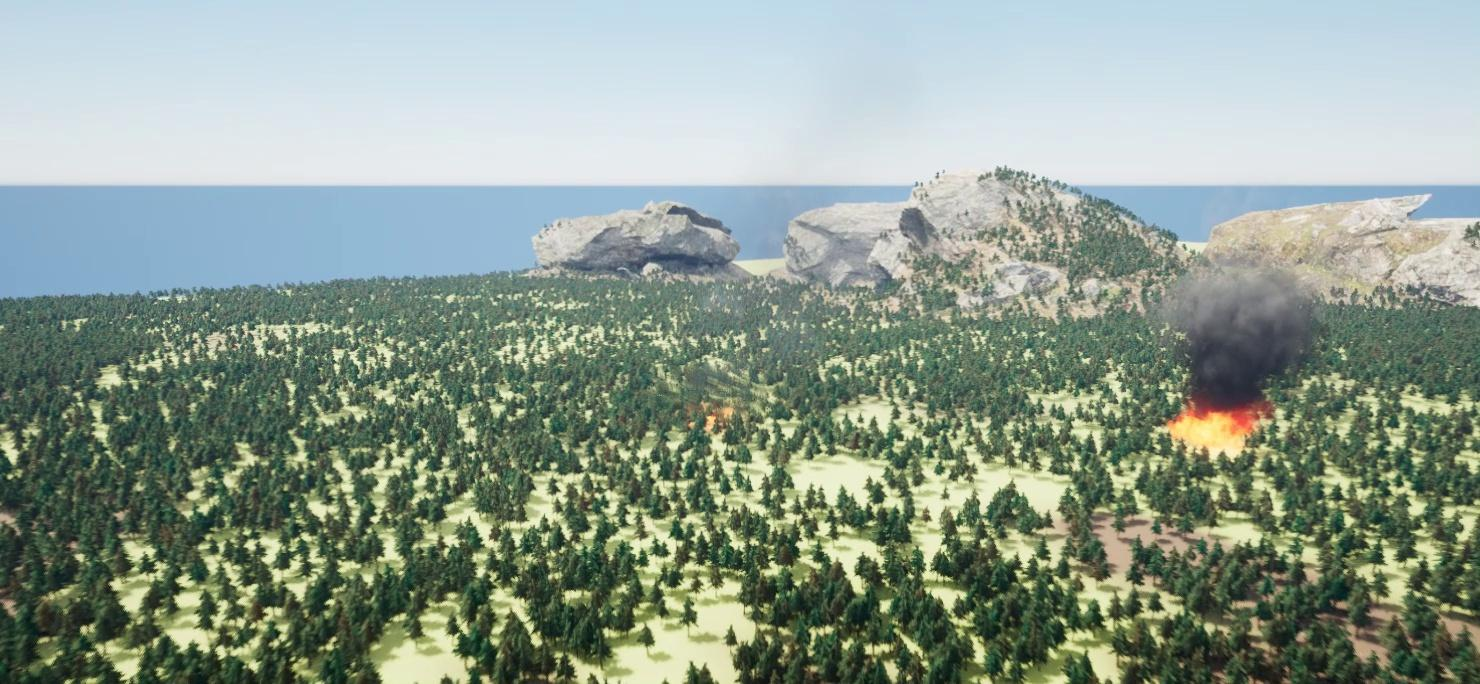fire: (1156, 400, 1275, 456), (684, 397, 734, 430)
smoke: (1166, 255, 1313, 399)
